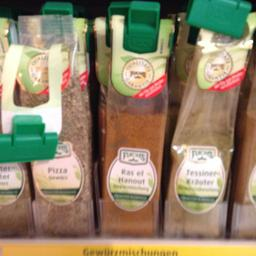spices: (172, 12, 252, 234), (16, 14, 95, 234), (102, 12, 172, 234)
